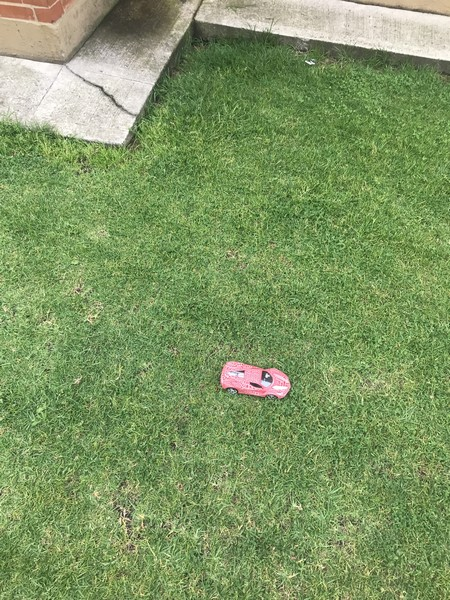RC: (219, 359, 292, 401)
